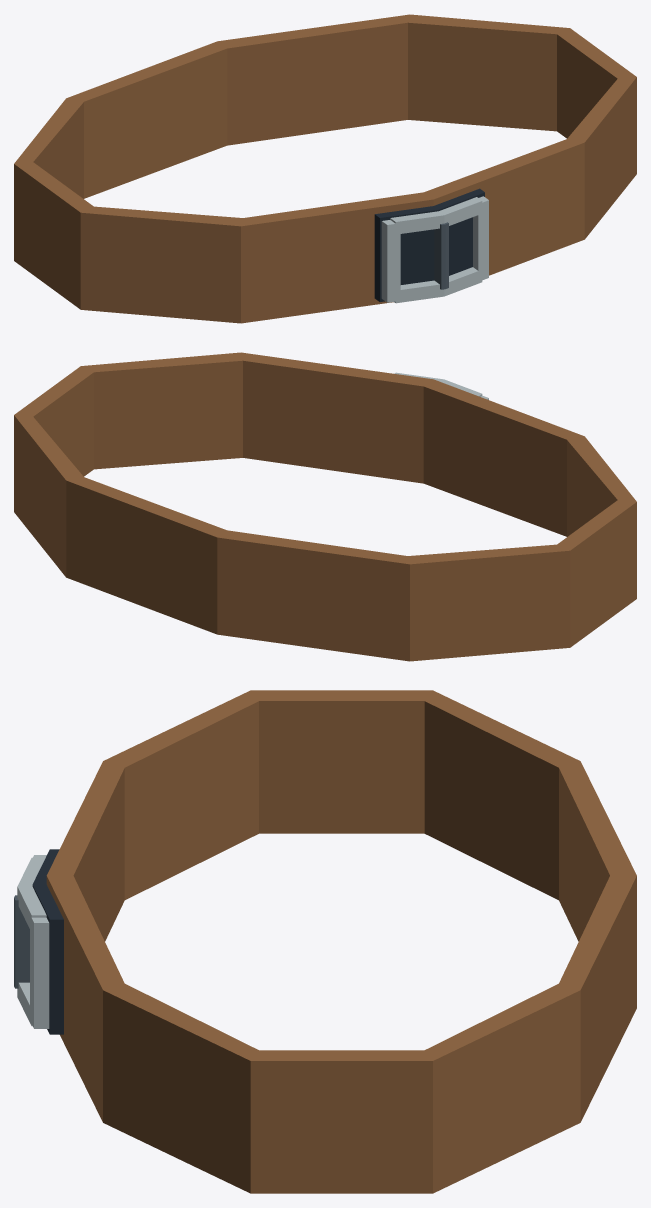
The model's file is leather_waist-male.glb.
The picture shows the model from 3 angles, top to bottom: view 1: azimuth 30°, elevation 25°; view 2: azimuth 150°, elevation 25°; view 3: azimuth 270°, elevation 25°; orthographic projection. The views are drawn at different scales.
Parts seen in each view (by area): view 1: leather waist band, Buckle recessed backplate, Buckle side rail -0.145, Buckle cross rail 4.506, Buckle cross rail 4.294, Buckle side rail 0.145, Buckle pin; view 2: leather waist band; view 3: leather waist band, Buckle recessed backplate, Buckle side rail 0.145, Buckle pin, Buckle cross rail 4.506.
Part boxes in pixels (bbox=[...]): leather waist band: bbox=[14, 14, 636, 323]; Buckle recessed backplate: bbox=[374, 188, 484, 301]; Buckle side rail -0.145: bbox=[381, 220, 400, 302]; Buckle cross rail 4.506: bbox=[390, 197, 482, 233]; Buckle cross rail 4.294: bbox=[394, 267, 482, 303]; Buckle side rail 0.145: bbox=[473, 196, 488, 281]; Buckle pin: bbox=[434, 222, 448, 289]; leather waist band: bbox=[14, 352, 636, 661]; leather waist band: bbox=[46, 690, 636, 1193]; Buckle recessed backplate: bbox=[32, 849, 63, 1034]; Buckle side rail 0.145: bbox=[30, 915, 49, 1028]; Buckle pin: bbox=[14, 895, 29, 988]; Buckle cross rail 4.506: bbox=[17, 857, 46, 928].
Size of the model in its own units: 1.8 by 0.3 by 1.28.
